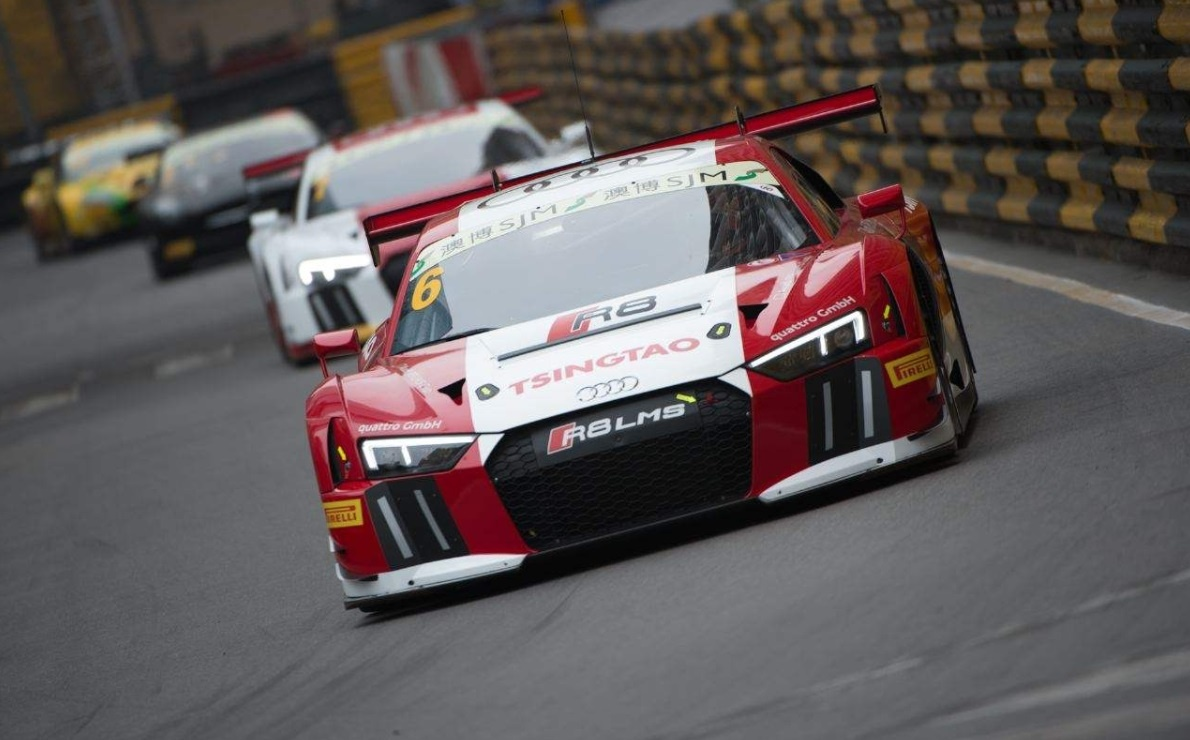racing car: (295, 168, 962, 614), (260, 89, 634, 328)
